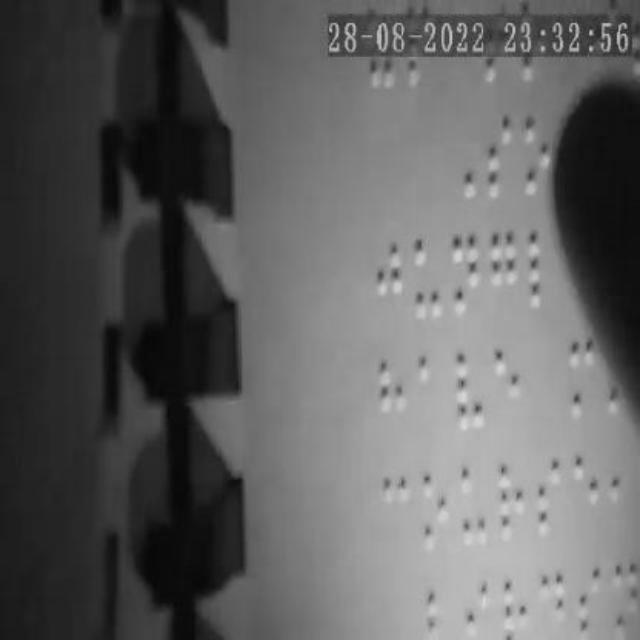braiile: (484, 110, 524, 206), (411, 226, 447, 320), (448, 230, 484, 318), (527, 224, 563, 312), (453, 466, 489, 552), (488, 227, 522, 313), (372, 230, 404, 320), (533, 451, 563, 547), (378, 353, 410, 442), (492, 463, 524, 552), (454, 348, 488, 429), (526, 112, 558, 198), (573, 448, 603, 538), (415, 474, 447, 556), (494, 344, 524, 431), (377, 474, 407, 558), (416, 352, 448, 430), (567, 336, 597, 416), (609, 452, 639, 528)
